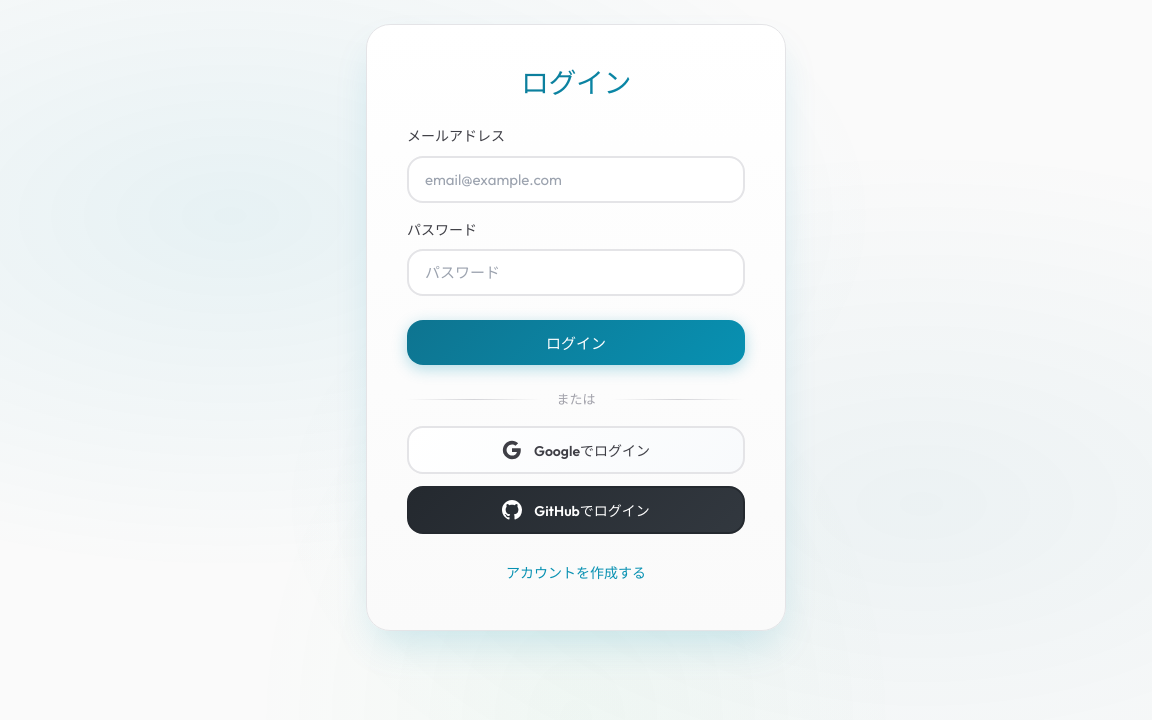
Scenario: LoginPage › toggle between login and sign up › should clear error when toggling modes
Type "test@example.com" into the field labelled "メールアドレス" at (576, 179), box [407,156,745,203]
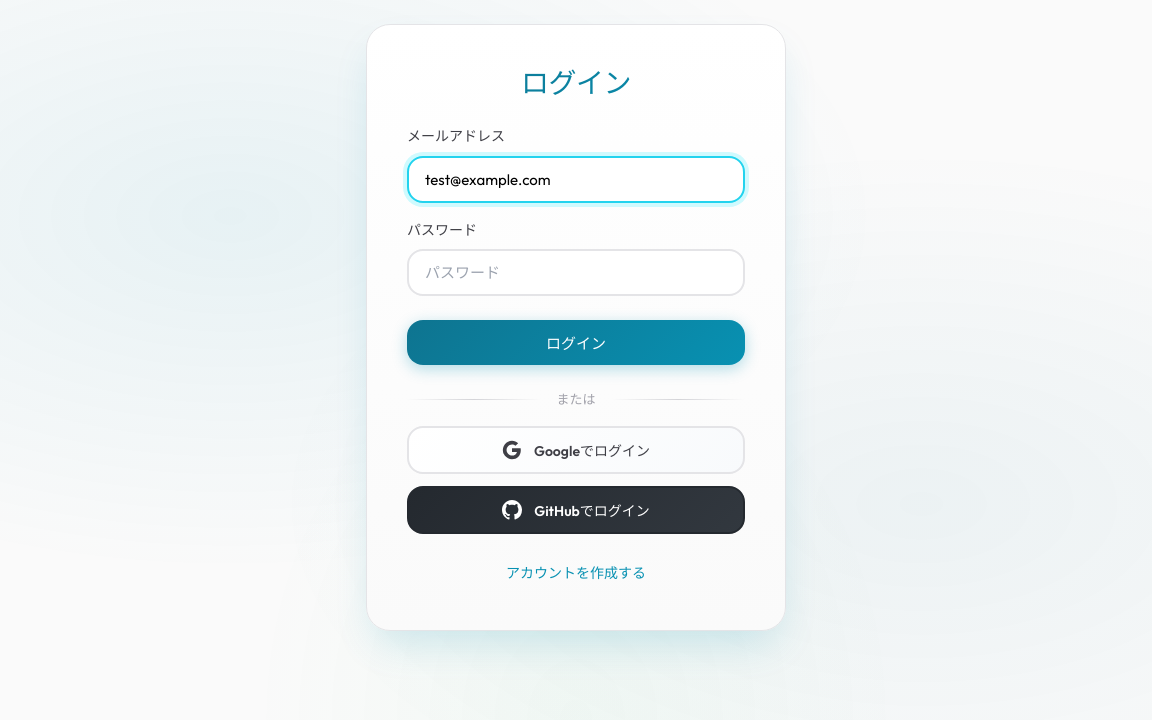
Type "password123" into the password field labelled "パスワード" at (576, 273), box [407,249,745,296]
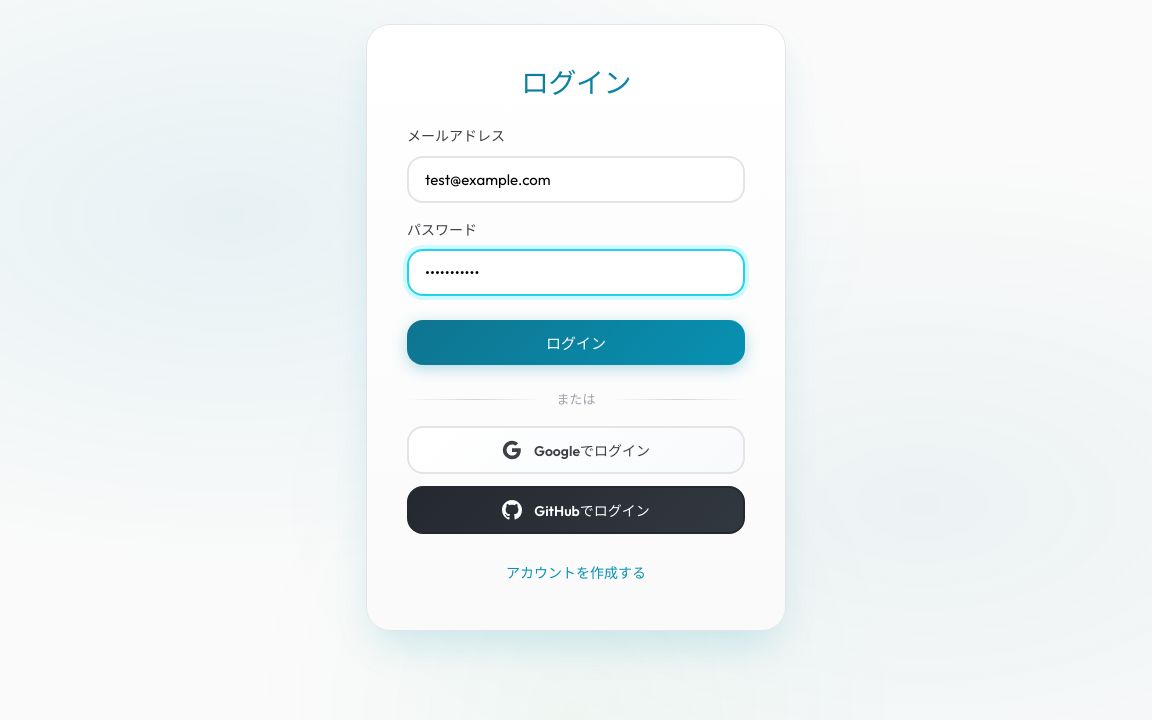
Click the button "ログイン" at (576, 343), box [407,320,745,365]
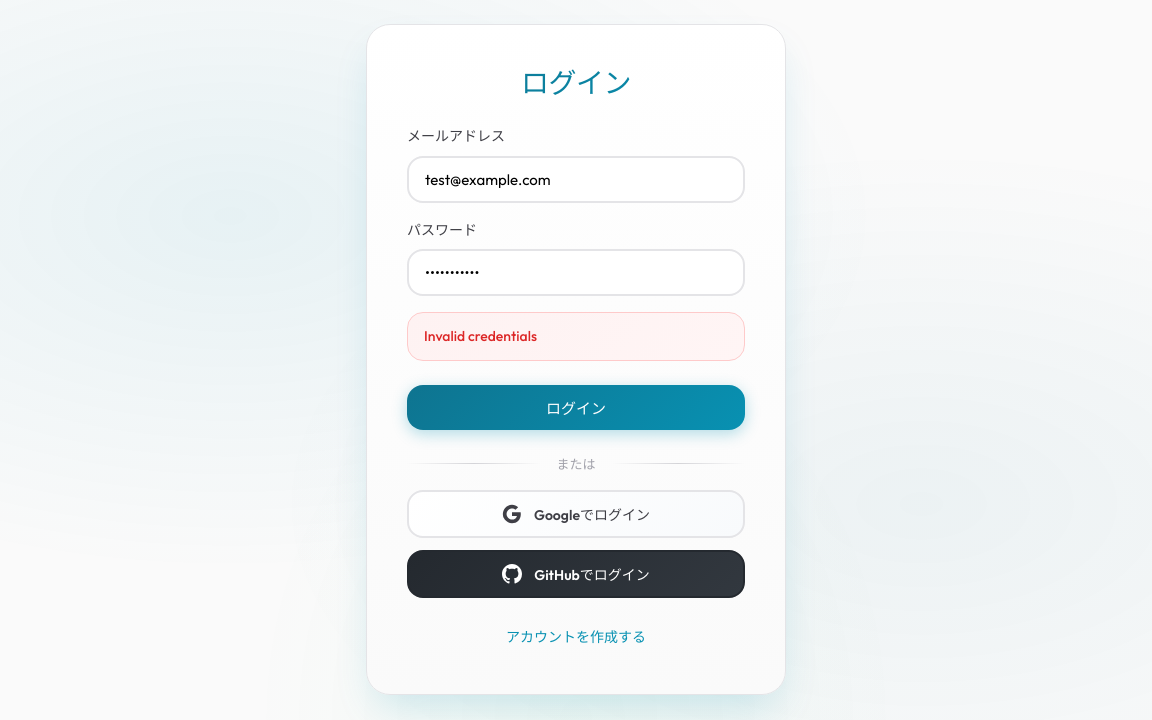
Result: the message reads "Invalid credentials" at [424,327,537,345]
Toggle to sign up
Click the button "アカウントを作成する" at (576, 636), box [498,618,654,654]
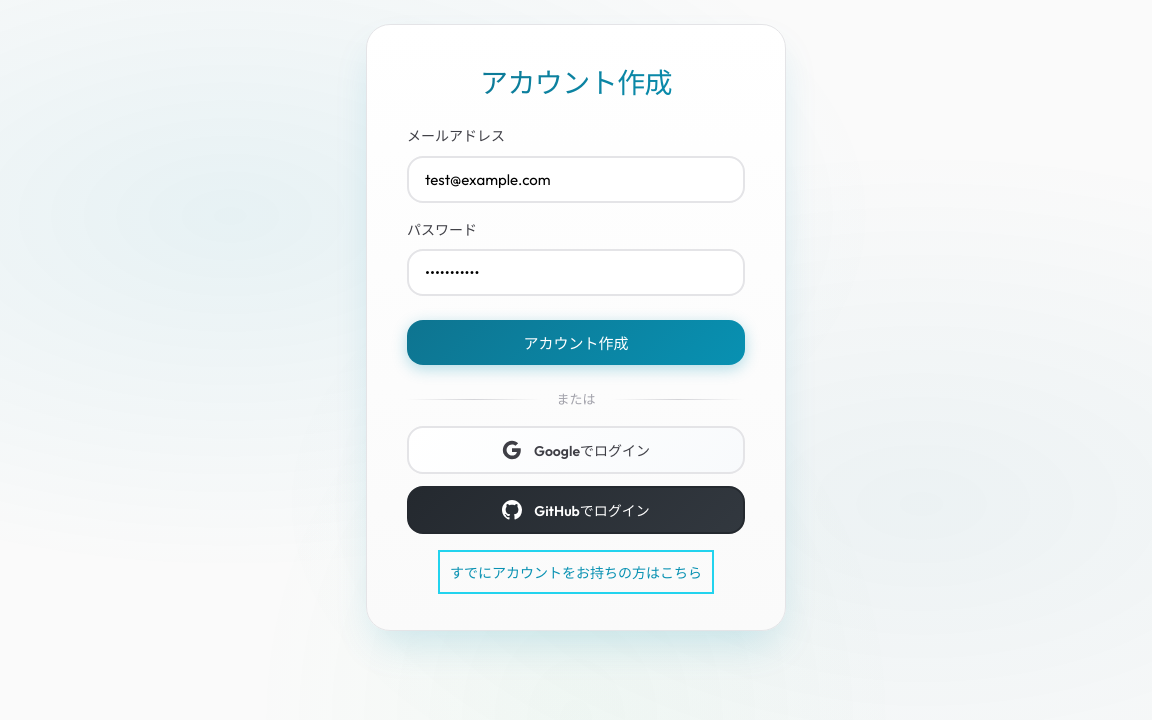
Result: the message "Invalid credentials" is gone
